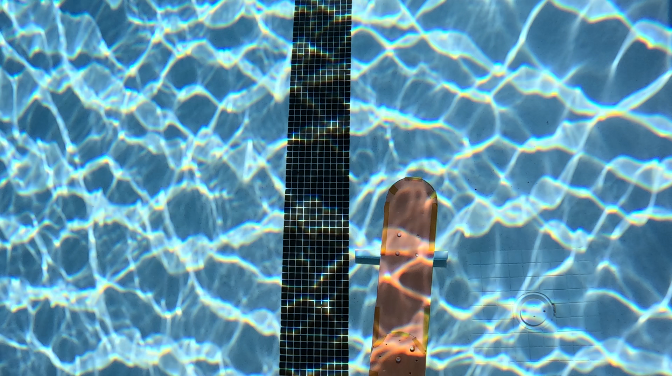pathmarker: (369, 175, 436, 375)
